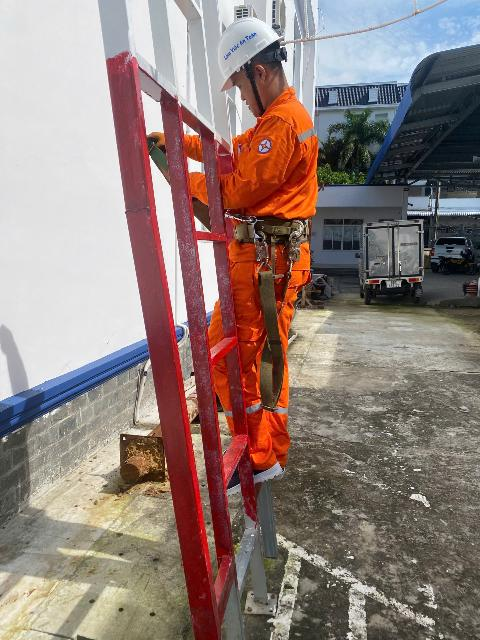harness: (213, 210, 335, 255)
helmet: (193, 17, 303, 97)
shoes: (211, 460, 293, 489)
